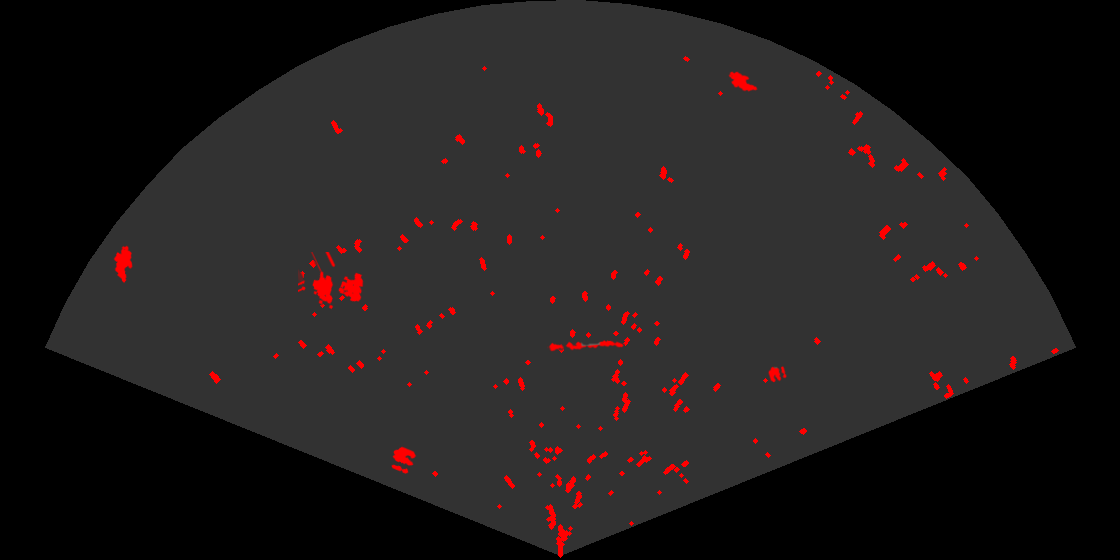AUV: (112, 244, 134, 285), (727, 70, 759, 93)
ball: (390, 445, 418, 475), (767, 364, 788, 384)
cage: (298, 252, 365, 311)
chain: (547, 339, 625, 353)
